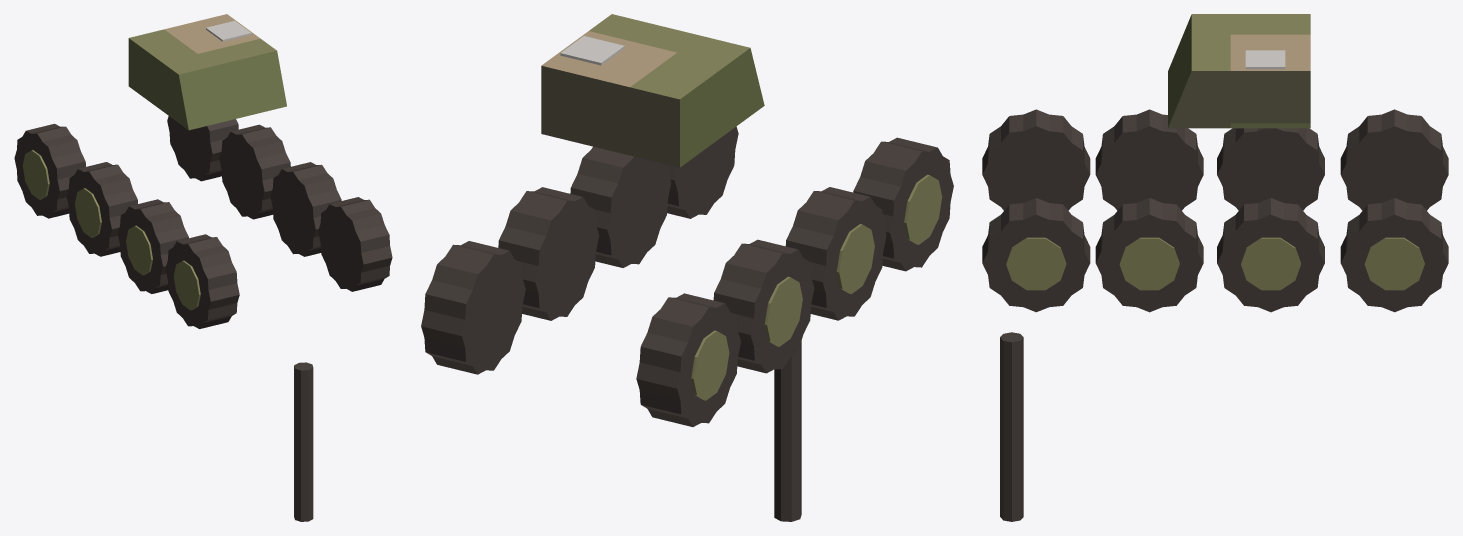
Rendered from SM_VCR_Dragon_Animable_v4_Urbano_LOD1.fbx.
3 views of the same model, side by side, from view 1: azimuth 30°, elevation 25°; view 2: azimuth 150°, elevation 25°; view 3: azimuth 270°, elevation 25° (orthographic). The views are drawn at different scales.
Parts seen in each view (by area): view 1: Torre, Rueda_1L, Rueda_1R, Rueda_4R, Rueda_3R, Rueda_3L, Rueda_2R, Rueda_2L, Canon, Rueda_4L; view 2: Torre, Rueda_4R, Rueda_4L, Rueda_3L, Rueda_3R, Rueda_2R, Rueda_1R, Rueda_2L, Canon, Rueda_1L; view 3: Torre, Rueda_1L, Rueda_4L, Rueda_2L, Rueda_3L, Rueda_1R, Rueda_4R, Rueda_2R, Rueda_3R, Canon.
Part boxes in pixels (x1=…): Torre: x1=128, y1=14, x2=286, y2=130; Rueda_1L: x1=318, y1=197, x2=392, y2=291; Rueda_1R: x1=165, y1=234, x2=239, y2=328; Rueda_4R: x1=14, y1=123, x2=85, y2=218; Rueda_3R: x1=66, y1=162, x2=137, y2=256; Rueda_3L: x1=219, y1=124, x2=290, y2=219; Rueda_2R: x1=117, y1=199, x2=188, y2=293; Rueda_2L: x1=270, y1=162, x2=341, y2=256; Canon: x1=294, y1=362, x2=313, y2=521; Rueda_4L: x1=167, y1=116, x2=238, y2=181; Torre: x1=541, y1=14, x2=764, y2=167; Rueda_4R: x1=636, y1=293, x2=740, y2=426; Rueda_4L: x1=421, y1=241, x2=525, y2=374; Rueda_3L: x1=498, y1=187, x2=599, y2=320; Rueda_3R: x1=713, y1=239, x2=814, y2=373; Rueda_2R: x1=785, y1=187, x2=886, y2=320; Rueda_1R: x1=853, y1=137, x2=953, y2=271; Rueda_2L: x1=570, y1=146, x2=671, y2=267; Canon: x1=774, y1=341, x2=801, y2=521; Rueda_1L: x1=667, y1=126, x2=738, y2=218; Torre: x1=1168, y1=14, x2=1310, y2=128; Rueda_1L: x1=982, y1=198, x2=1090, y2=312; Rueda_4L: x1=1340, y1=198, x2=1448, y2=312; Rueda_2L: x1=1095, y1=198, x2=1203, y2=312; Rueda_3L: x1=1217, y1=198, x2=1324, y2=312; Rueda_1R: x1=982, y1=109, x2=1090, y2=210; Rueda_4R: x1=1340, y1=109, x2=1448, y2=210; Rueda_2R: x1=1095, y1=109, x2=1203, y2=210; Rueda_3R: x1=1217, y1=128, x2=1324, y2=210; Canon: x1=1000, y1=332, x2=1023, y2=521.
Size of what is drawn, in the model's own units: 3.2 by 6.63 by 5.88.
